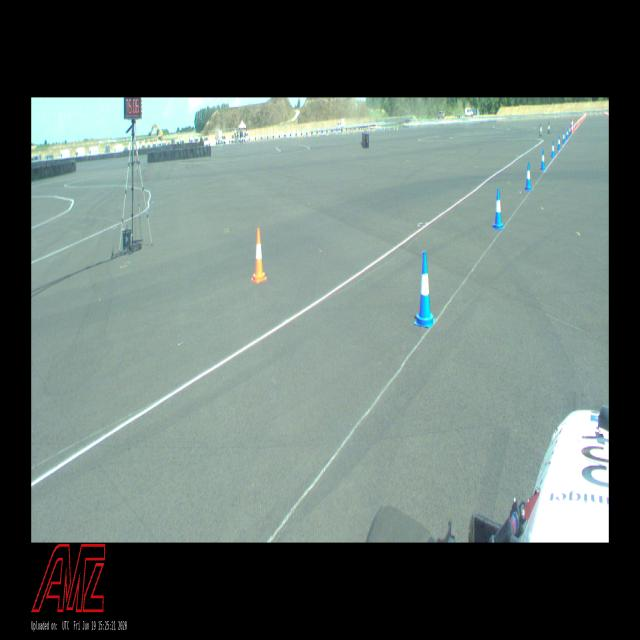blue_cone: (414, 252, 435, 328), (493, 188, 503, 230), (525, 162, 532, 191), (540, 149, 546, 170), (551, 140, 555, 158), (557, 136, 561, 150), (562, 132, 566, 144), (566, 128, 568, 139), (569, 126, 571, 136)
large_orange_cone: (571, 118, 574, 133)
orange_cone: (251, 228, 267, 283)
